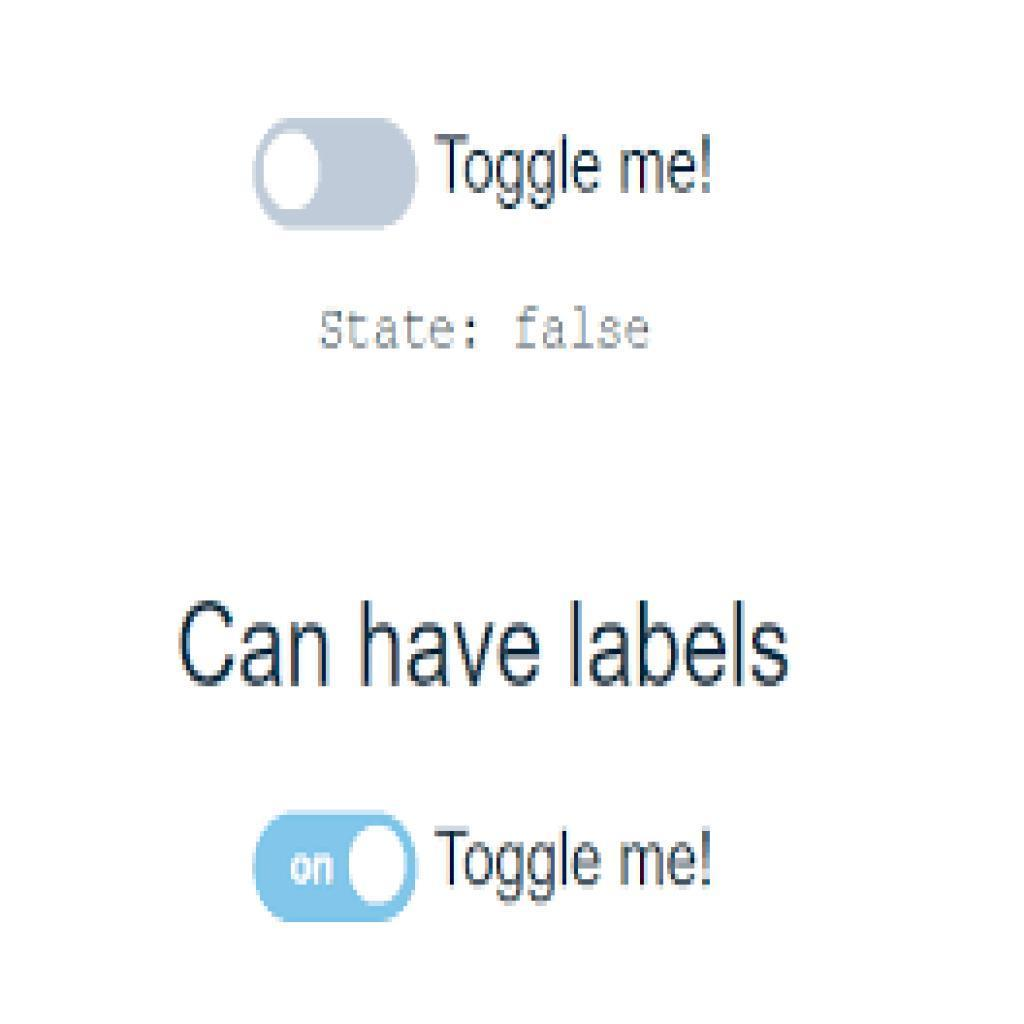label: (425, 124, 724, 212), (432, 820, 717, 908)
switch: (252, 811, 424, 922), (252, 118, 418, 233)
